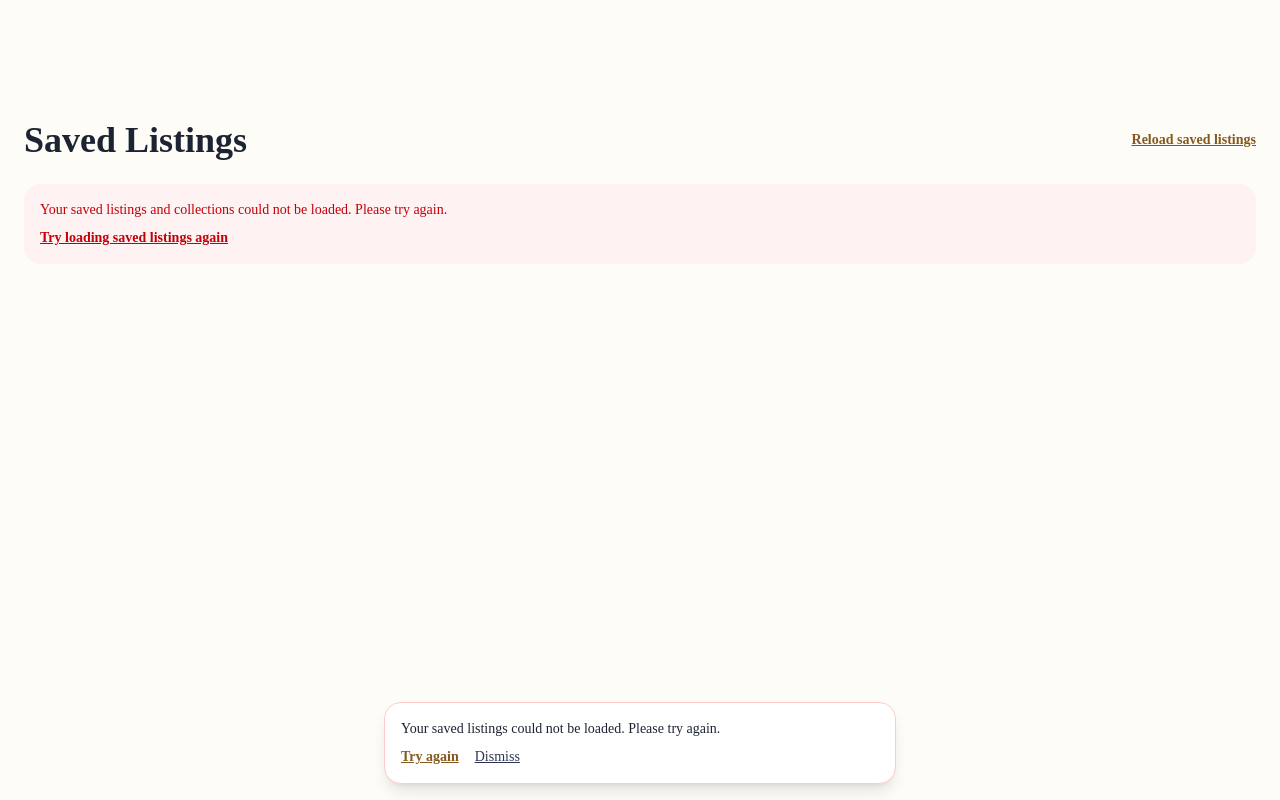
it: keeps load failure distinct from empty saved and recovers with retry
Click the button "Try loading saved listings again".
click(134, 238)  # box [40,228,228,248]
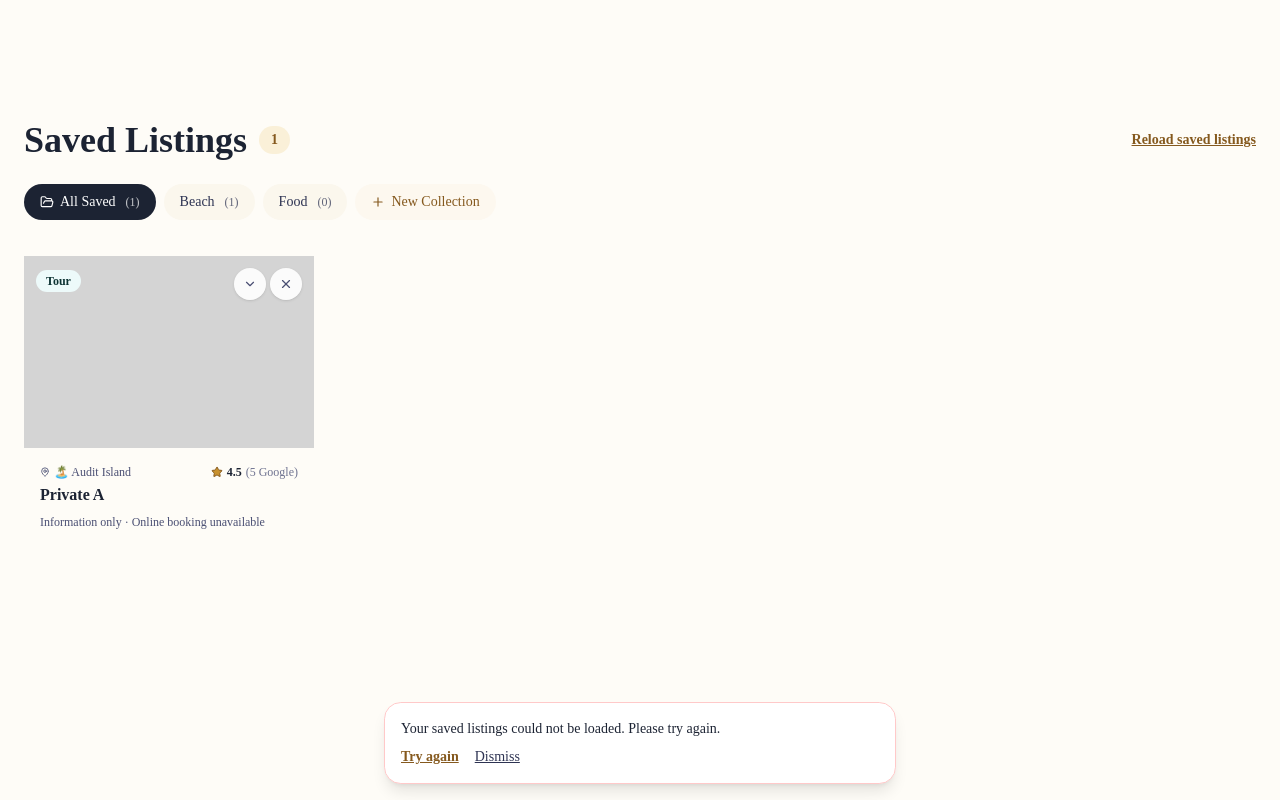
Expected: the text "Private A" is shown, [40,486,104,503]
